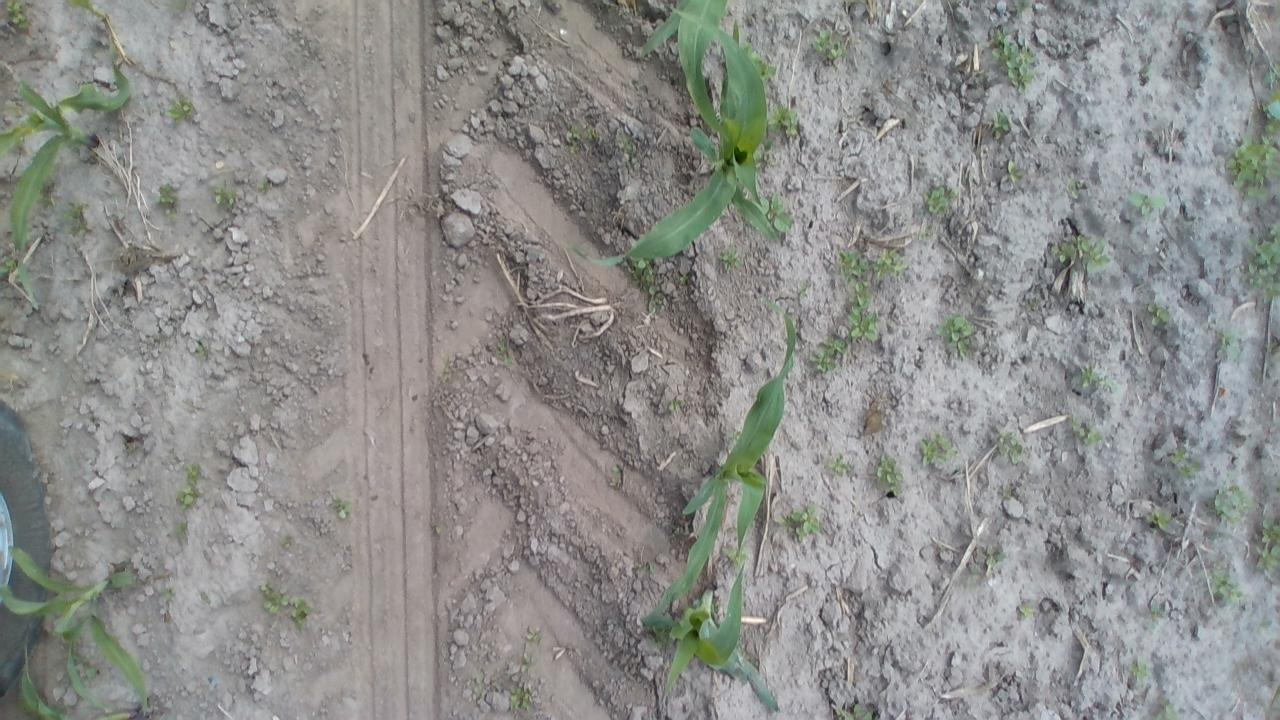Maize: (557, 7, 779, 268), (644, 290, 799, 625), (2, 66, 132, 276), (2, 545, 154, 708), (646, 566, 780, 720), (634, 0, 736, 142), (21, 634, 164, 720)
Weeds: (816, 277, 876, 376), (989, 26, 1036, 91), (1244, 227, 1280, 302), (256, 586, 314, 630), (1226, 138, 1274, 190), (1052, 229, 1112, 270), (916, 427, 956, 471), (1210, 482, 1252, 523), (752, 192, 792, 234), (869, 452, 903, 496), (741, 44, 777, 82), (1255, 520, 1280, 574), (1068, 357, 1106, 391), (563, 125, 601, 157), (808, 29, 839, 68), (992, 422, 1024, 458), (1168, 446, 1204, 478), (177, 462, 200, 512), (924, 182, 958, 215), (1209, 571, 1244, 603), (834, 244, 869, 275), (944, 316, 974, 352), (783, 505, 819, 534), (829, 700, 879, 720), (1066, 420, 1104, 446), (823, 454, 859, 480), (872, 247, 904, 276), (1141, 297, 1171, 326), (774, 103, 800, 136), (1126, 190, 1162, 213), (1211, 324, 1236, 357), (1260, 90, 1280, 131), (980, 540, 1010, 567), (1145, 503, 1172, 532), (70, 202, 93, 235), (166, 95, 194, 122), (508, 680, 532, 711), (328, 494, 352, 521), (991, 111, 1012, 140), (1001, 158, 1022, 186), (1150, 699, 1176, 720), (5, 3, 28, 26), (210, 182, 230, 208), (170, 516, 192, 539), (618, 138, 640, 160), (718, 248, 743, 267), (158, 184, 178, 206), (1014, 603, 1036, 623), (634, 262, 654, 280), (1132, 656, 1146, 681), (0, 257, 16, 276), (525, 624, 541, 642), (282, 534, 293, 554)
